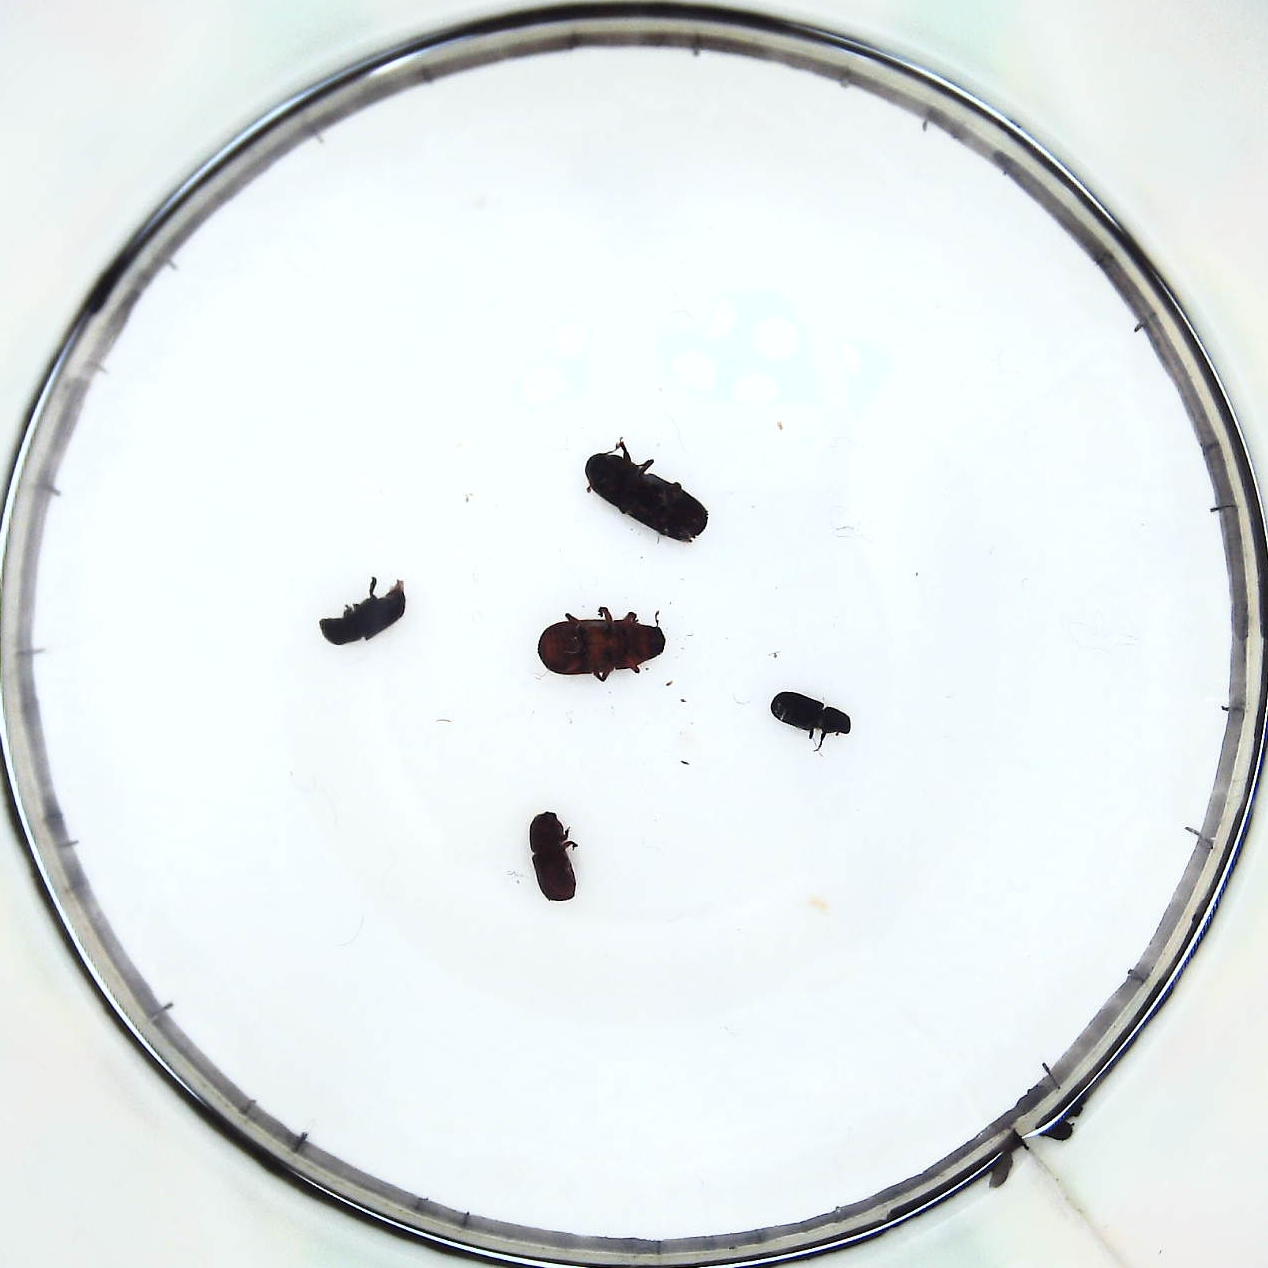Boerner: (586, 445, 712, 546)
Leconte: (539, 612, 669, 680)
Linnaeus: (529, 812, 579, 903)
armandi: (320, 579, 405, 644)
coleoptera: (769, 689, 850, 747)
